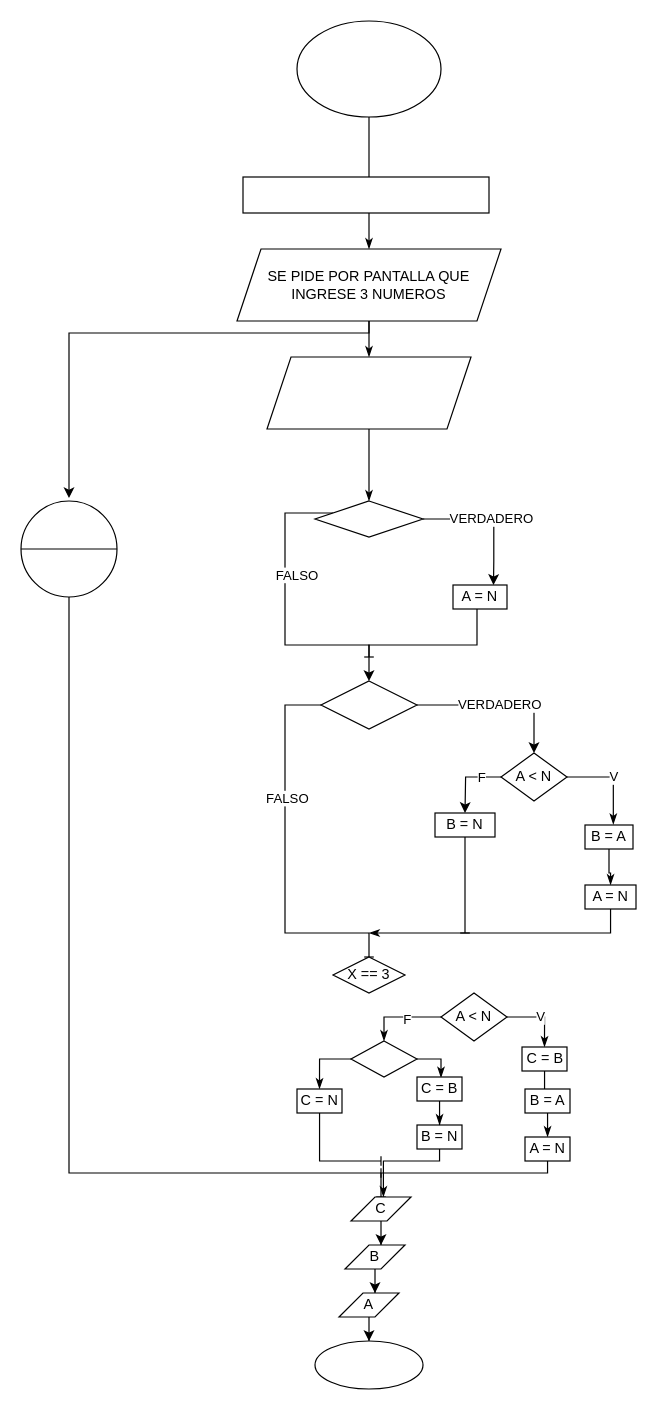
Some shapes in this 658 by 1410 pixel diagram are drawn without their labels. Here are the shapes that lost their labels. From the top down, the box of each, then its label:
(296, 20, 441, 117): INICIO
(242, 176, 489, 213): DELARAR VARIABLES X,N,A,B,C
(266, 356, 471, 429): VARIABLE N ALMACENA EL PRIMER NUMERO
(314, 500, 423, 537): X == 1
(20, 500, 117, 597): X 1 - 1 - 3
(320, 680, 417, 729): X == 2
(350, 1040, 417, 1077): B < N
(314, 1340, 423, 1389): FIN
